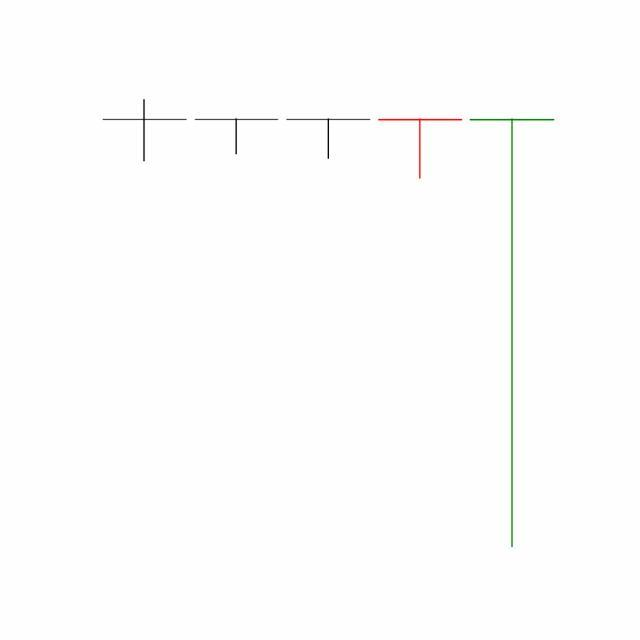Dragonfly Doji: (466, 114, 559, 553)
